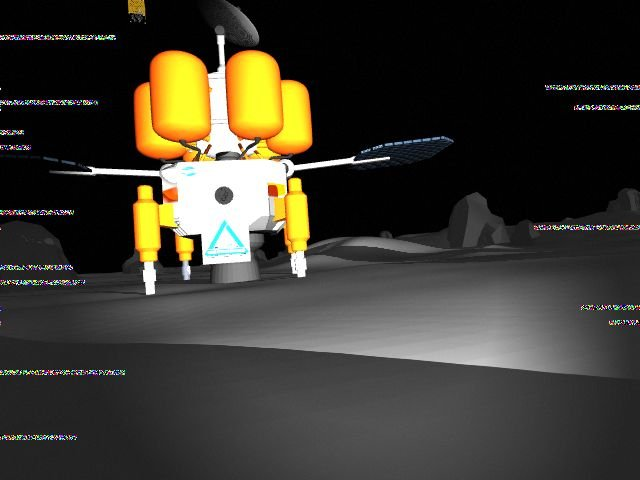basemarker: (205, 218, 249, 257)
